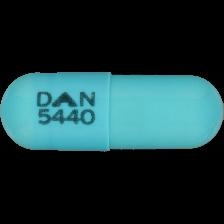0591-5440: (0, 0, 224, 224)
